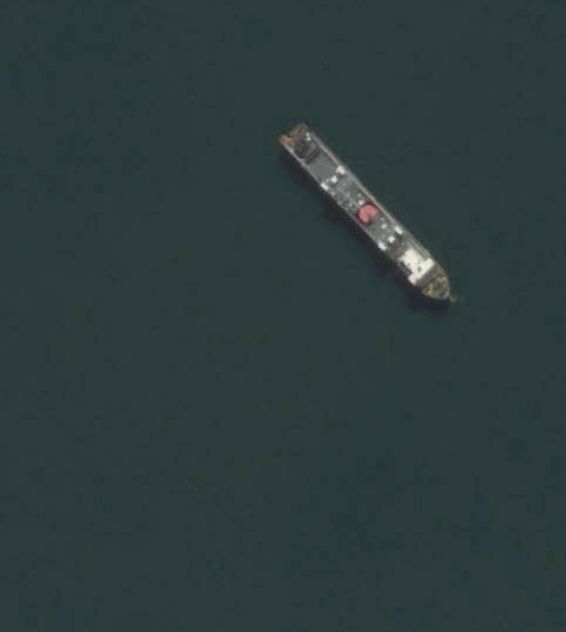boat: (278, 121, 457, 309)
